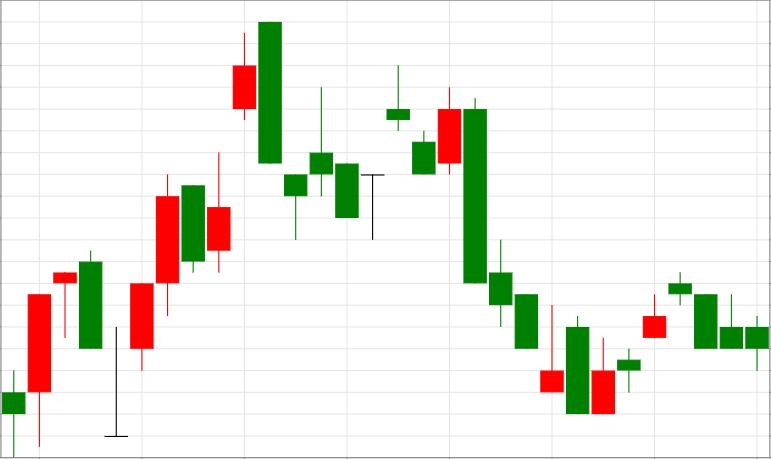bearish_engulfing_fall: (131, 21, 282, 371)
